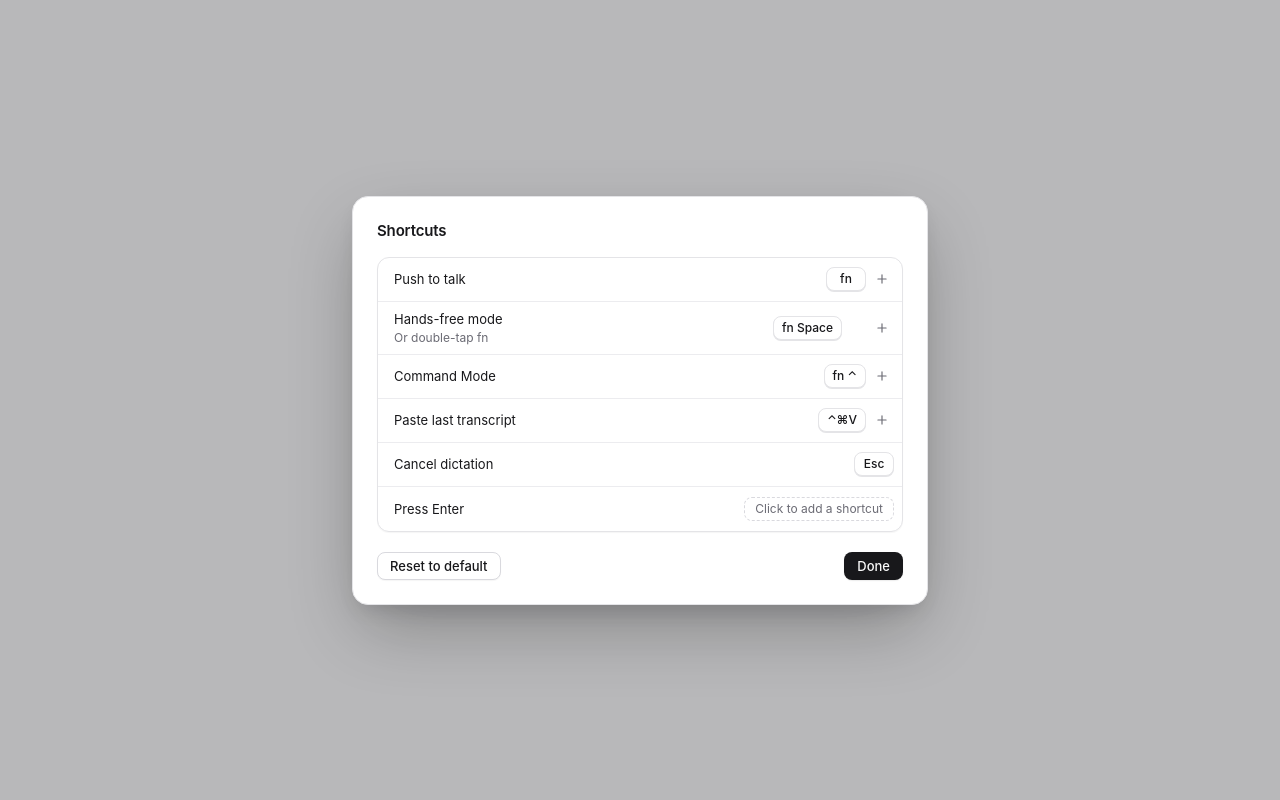
ShortcutsDialog › adds another binding and shows a conflict warning
Expected: the text "Push to talk" is shown, [394,271,466,287]
Click the button named "Add another shortcut for Hands-free mode".
click(882, 328)  # box [870,316,894,340]
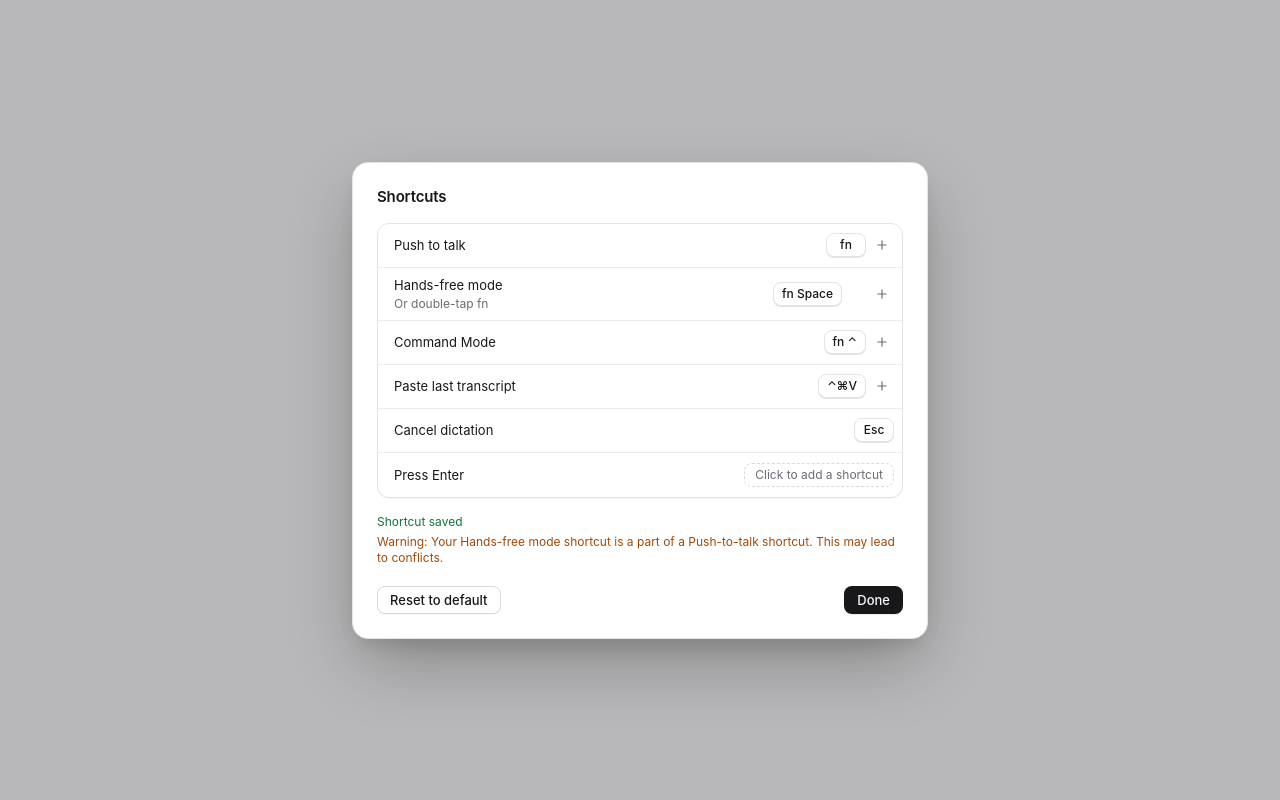
Expected: the text "Warning: Your Hands-free mode shortcut is a part of a Push-to-talk shortcut. This may lead to conflicts." is shown, [377,534,895,564]
